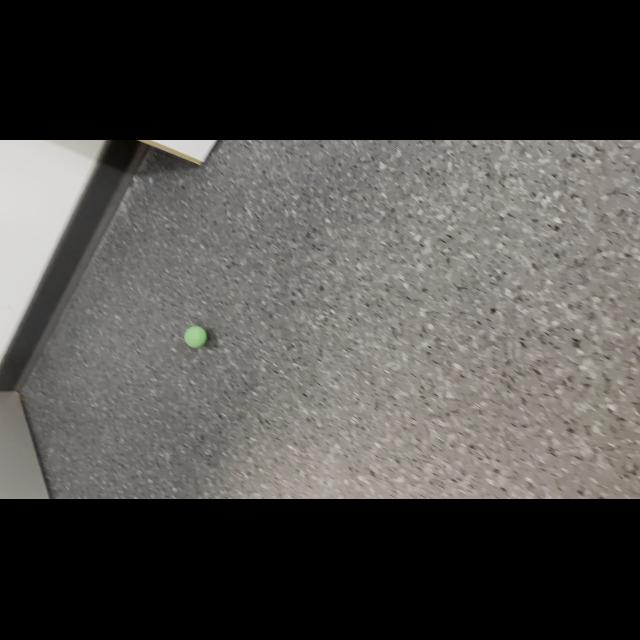objects: (180, 322, 212, 352)
